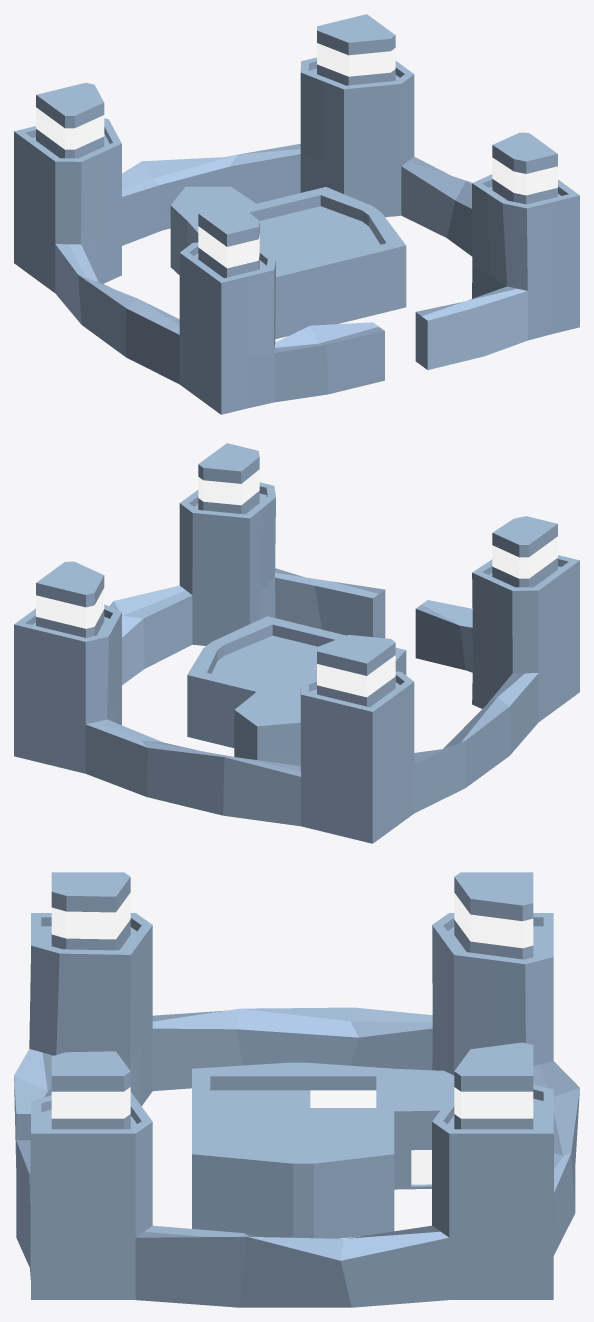
The model's file is Gilded_Fortress.glb.
3 renders of one model, top to bottom at view 1: azimuth 30°, elevation 25°; view 2: azimuth 150°, elevation 25°; view 3: azimuth 270°, elevation 25°, orthographic. The views are drawn at different scales.
Parts seen in each view (by area): view 1: Dark Fortress; view 2: Dark Fortress; view 3: Dark Fortress.
Part boxes in pixels (<box>): Dark Fortress: <box>14,14,579,414</box>; Dark Fortress: <box>14,443,579,843</box>; Dark Fortress: <box>14,872,579,1307</box>.
Bounding box in the file's own units: 1.93 × 0.7978 × 1.9.
